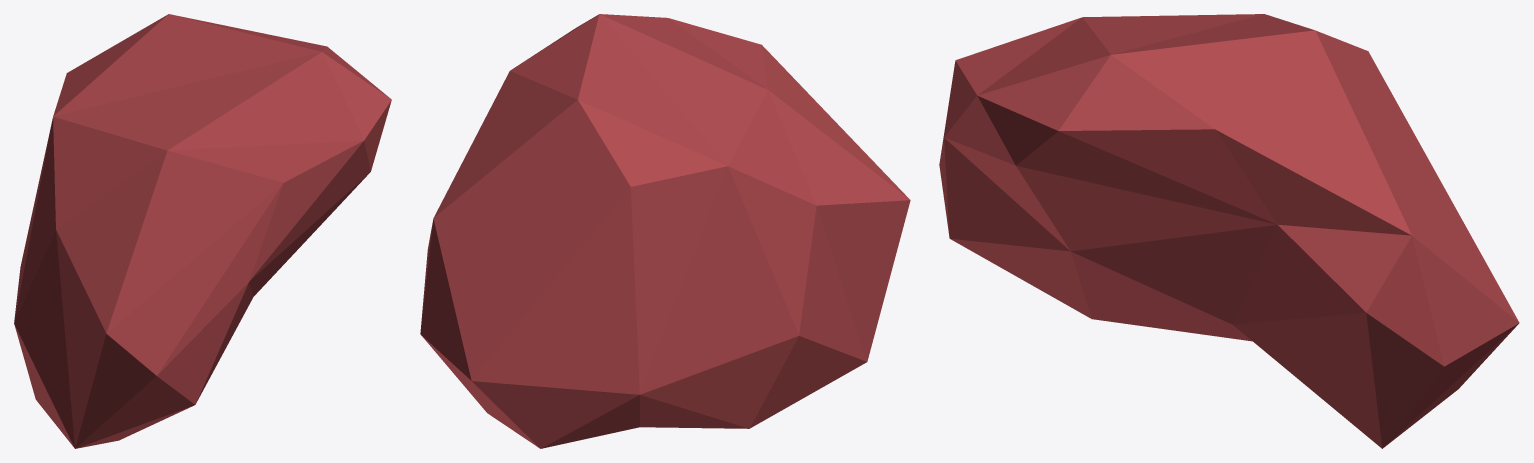
Rendered from Rock_C.fbx.
3 views of the same model, side by side, from view 1: azimuth 30°, elevation 25°; view 2: azimuth 150°, elevation 25°; view 3: azimuth 270°, elevation 25° (orthographic). The views are drawn at different scales.
Visible parts, largest first — view 1: Rock C; view 2: Rock C; view 3: Rock C.
Boxes of the visible parts, x1,y1,x2,y2 form: Rock C: (14,14,391,448); Rock C: (420,14,910,448); Rock C: (939,14,1519,448).
Bounding box in the file's own units: 31.65 × 29.76 × 39.73.
